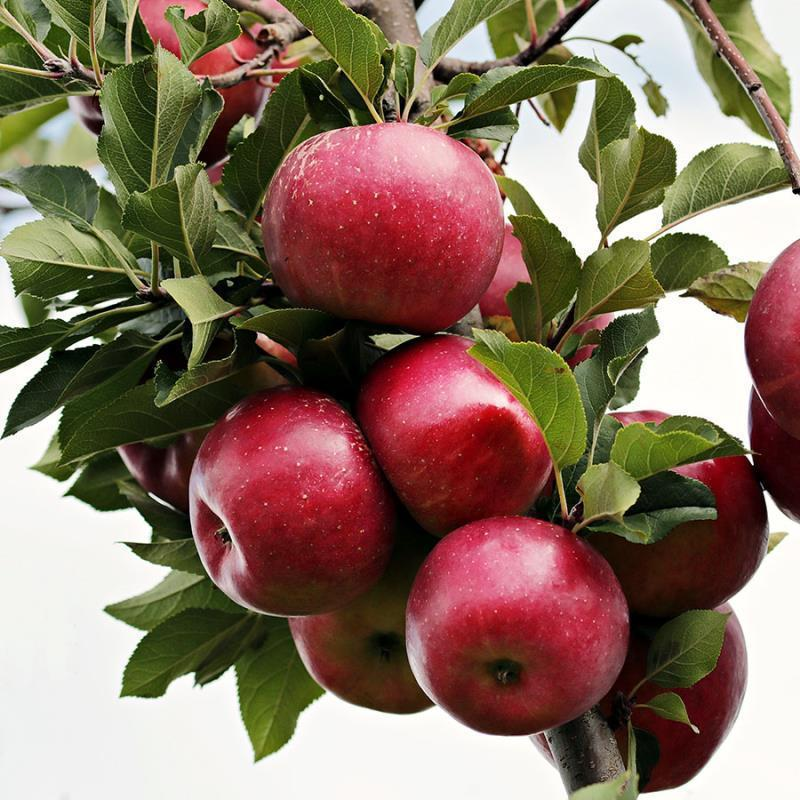apple: (268, 121, 511, 333), (404, 516, 631, 736), (187, 385, 398, 619), (527, 589, 750, 791), (354, 333, 556, 536), (285, 548, 433, 716)
